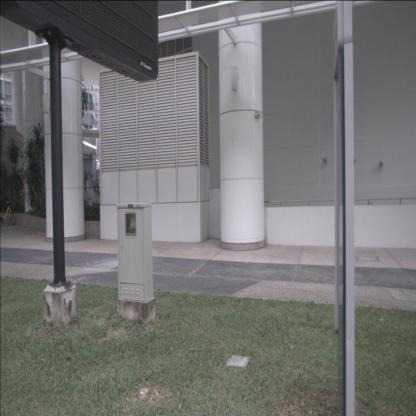vehicle-bicycle: (0, 198, 16, 226)
